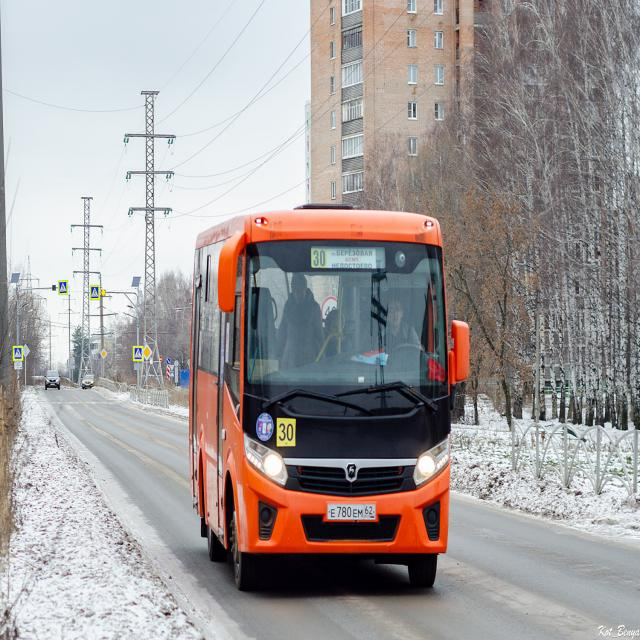number-of-bus: (279, 418, 296, 447), (313, 248, 328, 269)
